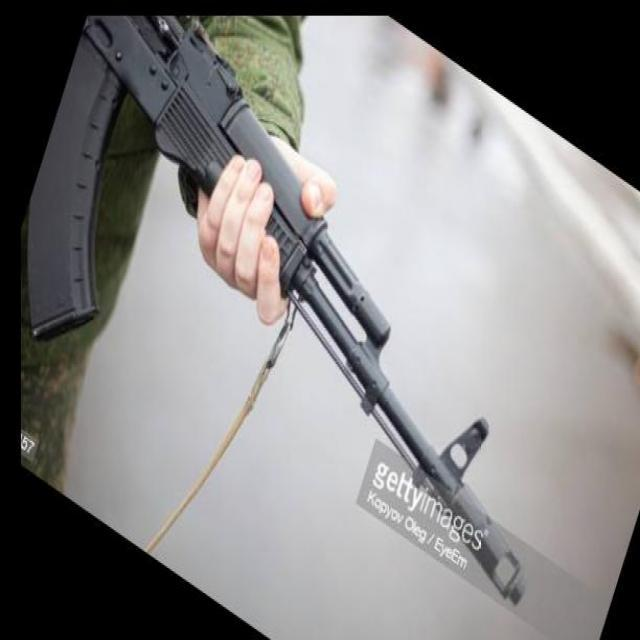weapon: (20, 15, 528, 608)
